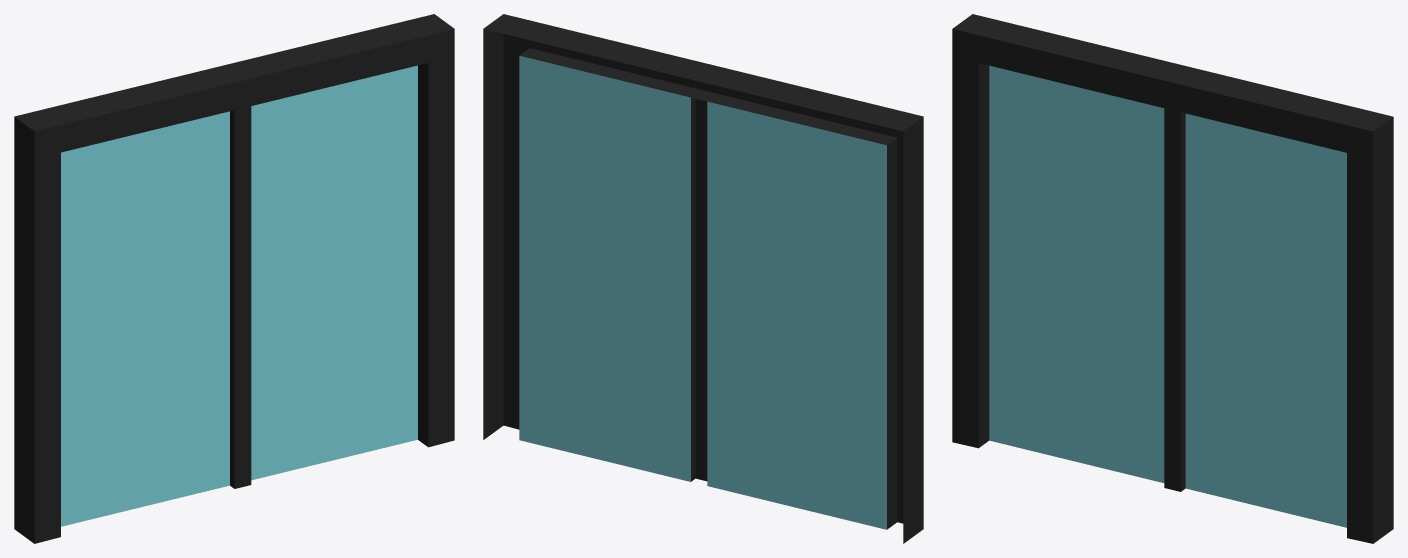
The model's file is DOOR.glb.
3 renders of one model, left to right at view 1: azimuth 30°, elevation 25°; view 2: azimuth 150°, elevation 25°; view 3: azimuth 330°, elevation 25°, orthographic.
Parts seen in each view (by area): view 1: Cube; view 2: Cube; view 3: Cube.
Part boxes in pixels (x1,y1,x2,y2): Cube: (14,14,454,543); Cube: (483,14,923,543); Cube: (952,14,1393,543).
Bounding box in the file's own units: 2 × 1.88 × 0.1677.
